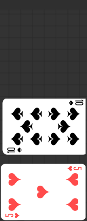10C: (67, 100, 84, 107)
4H: (66, 166, 82, 173)
